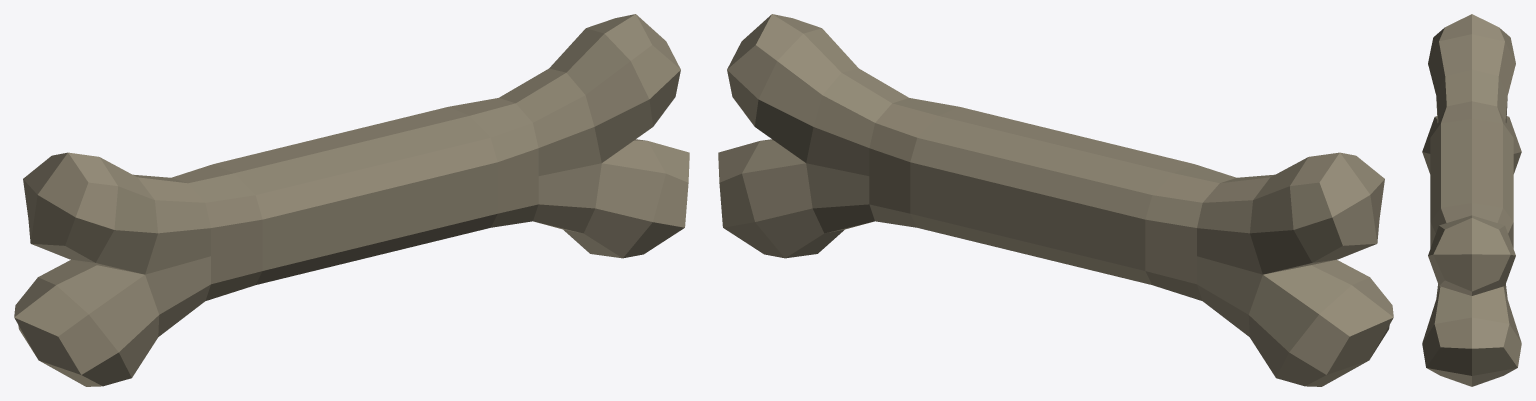
The model's file is quaternius-rpg-items-bone.glb.
3 renders of one model, left to right at view 1: azimuth 30°, elevation 25°; view 2: azimuth 150°, elevation 25°; view 3: azimuth 270°, elevation 25°, orthographic. The views are drawn at different scales.
Visible parts, largest first — view 1: Bone; view 2: Bone; view 3: Bone.
Boxes of the visible parts, left/top/right/bottom form: Bone: left=14, top=14, right=689, bottom=386; Bone: left=718, top=14, right=1393, bottom=386; Bone: left=1422, top=14, right=1521, bottom=386.
Bounding box in the file's own units: 1.02 × 0.3438 × 0.1768.
